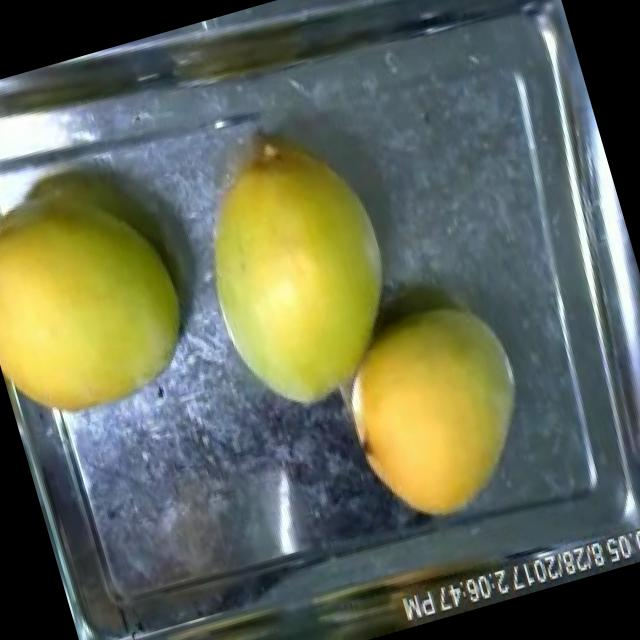fruit: (160, 97, 432, 433), (312, 274, 562, 550), (0, 140, 220, 436)
